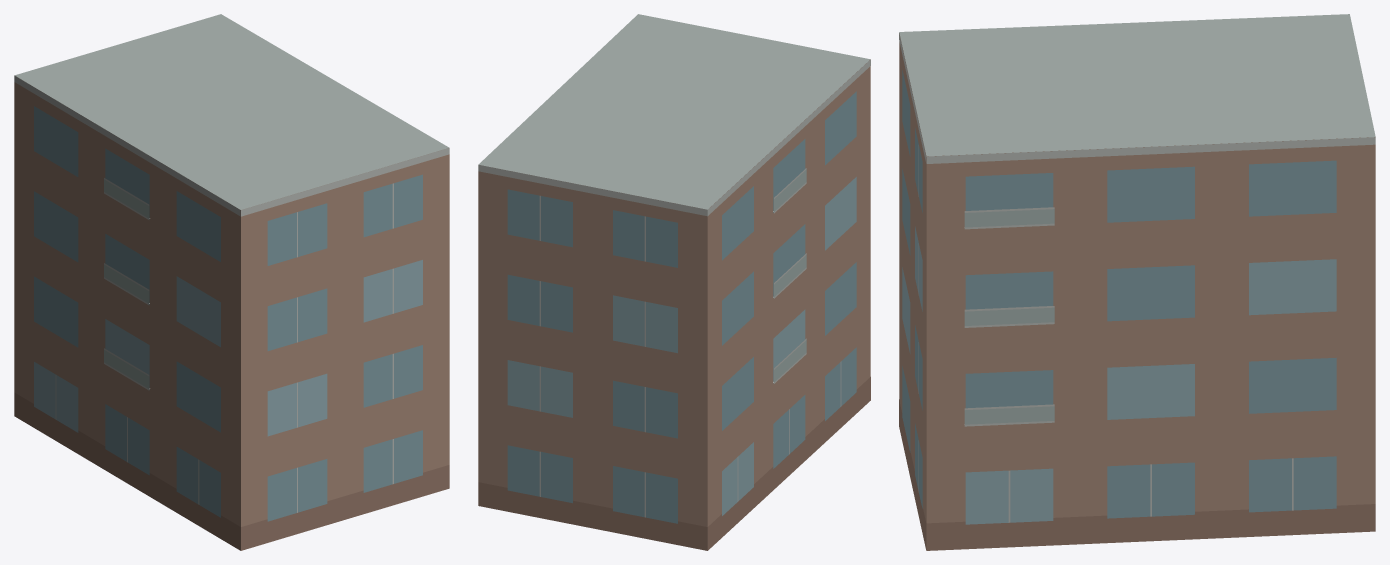
The model's file is survey-upis-32654460.glb.
3 renders of one model, left to right at view 1: azimuth 30°, elevation 25°; view 2: azimuth 150°, elevation 25°; view 3: azimuth 270°, elevation 25°, orthographic. The views are drawn at different scales.
Visible parts, largest first — view 1: survey-upis-32654460.tmp; view 2: survey-upis-32654460.tmp; view 3: survey-upis-32654460.tmp.
Boxes of the visible parts, bbox=[...] form: survey-upis-32654460.tmp: bbox=[14, 14, 449, 550]; survey-upis-32654460.tmp: bbox=[478, 14, 870, 550]; survey-upis-32654460.tmp: bbox=[899, 14, 1375, 550].
Bounding box in the file's own units: 9.77 × 12.6 × 13.81.
